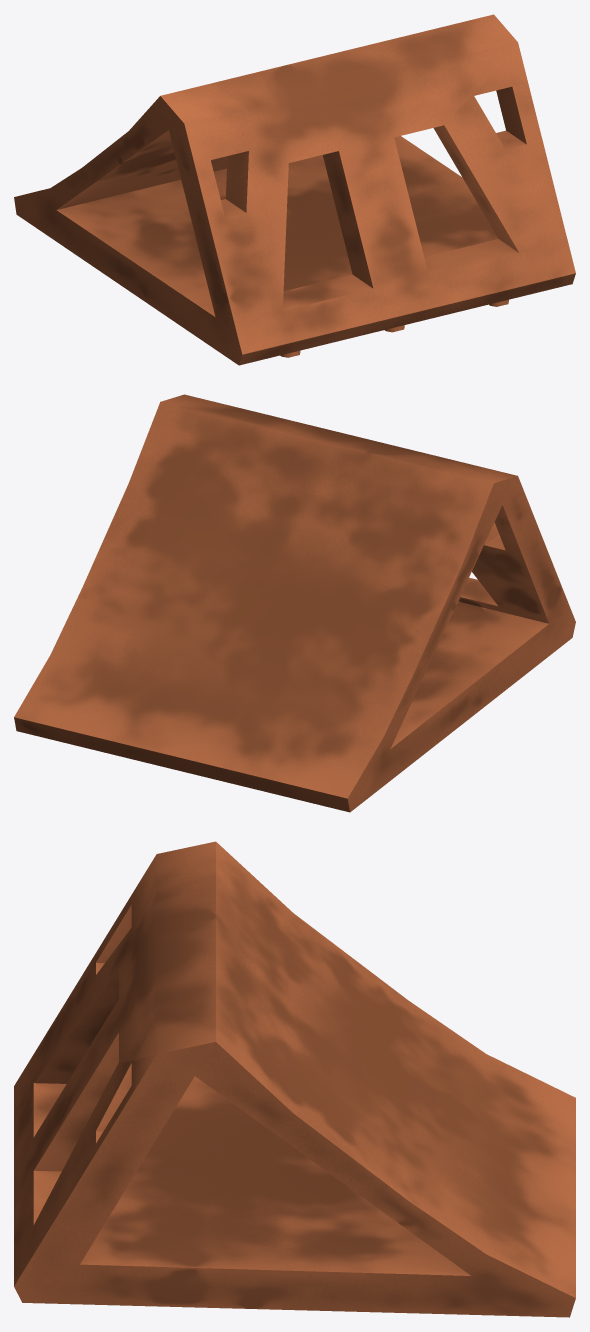
Rendered from russian_aircraft_wheel_chock.glb.
3 renders of one model, top to bottom at view 1: azimuth 30°, elevation 25°; view 2: azimuth 150°, elevation 25°; view 3: azimuth 270°, elevation 25°, orthographic. The views are drawn at different scales.
Parts seen in each view (by area): view 1: Chock_0; view 2: Chock_0; view 3: Chock_0.
Boxes of the visible parts, box(x1,y1,x2,y2) form: Chock_0: box(14, 14, 575, 365); Chock_0: box(14, 394, 575, 812); Chock_0: box(14, 841, 575, 1317).
Bounding box in the file's own units: 0.3881 × 0.2494 × 0.46.
Materials: 1 (1 with a texture image).
